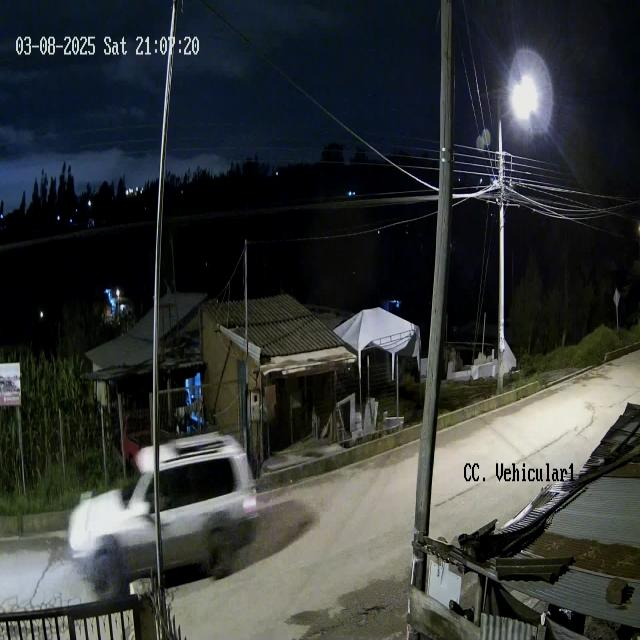SUV: (68, 428, 260, 597)
